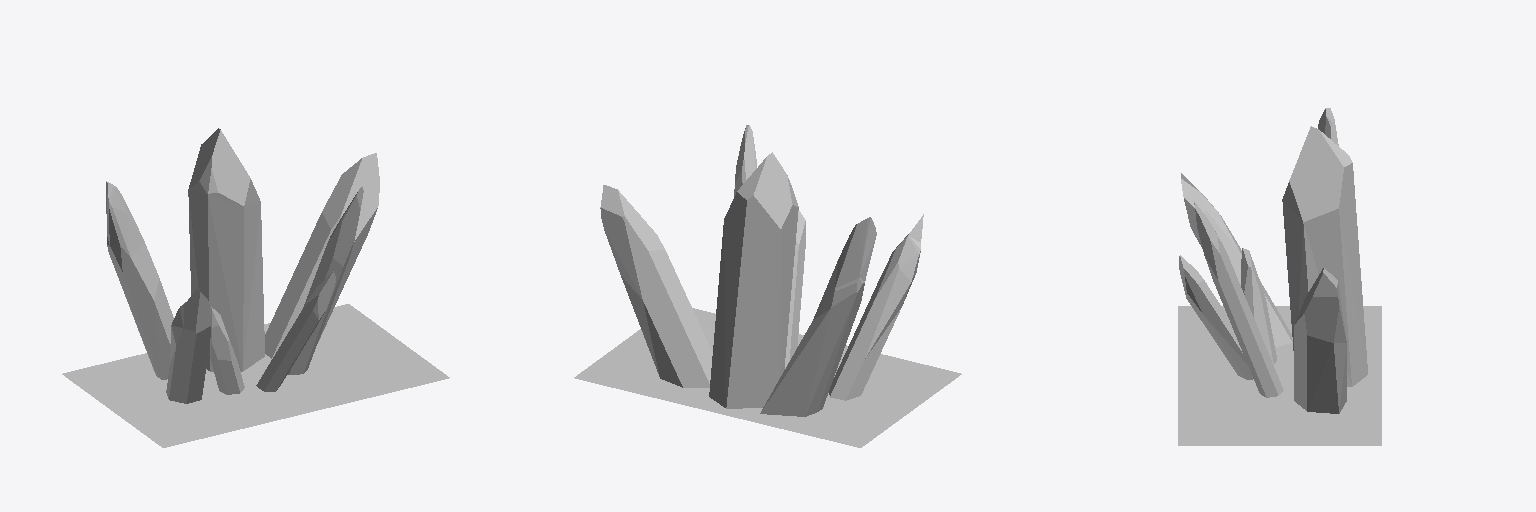
Rendered from crystals.obj.
3 renders of one model, left to right at view 1: azimuth 30°, elevation 25°; view 2: azimuth 150°, elevation 25°; view 3: azimuth 270°, elevation 25°, orthographic.
Visible parts, largest first — view 1: Low_poly_Crystals:Mesh; view 2: Low_poly_Crystals:Mesh; view 3: Low_poly_Crystals:Mesh.
Part boxes in pixels (left/top/right/bottom): Low_poly_Crystals:Mesh: left=62, top=128, right=449, bottom=447; Low_poly_Crystals:Mesh: left=574, top=125, right=961, bottom=447; Low_poly_Crystals:Mesh: left=1178, top=108, right=1381, bottom=445.
Size of the model in its own units: 11.12 by 8.87 by 6.82.